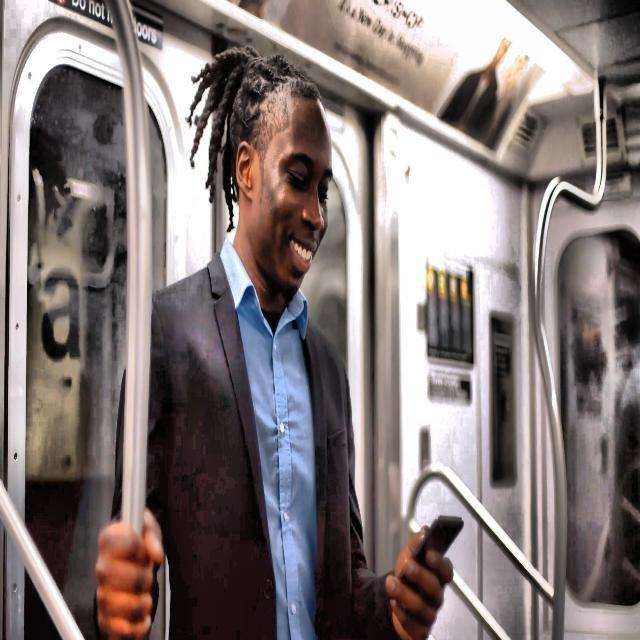Phone: (392, 514, 464, 592)
